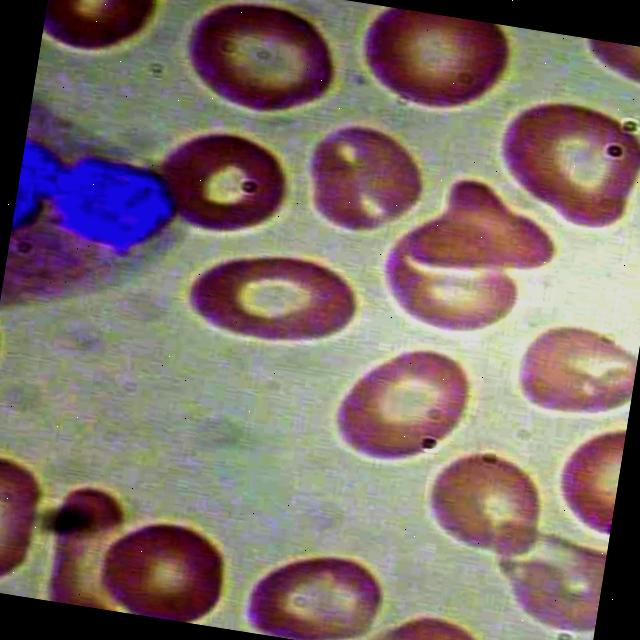RBC: (317, 321, 486, 486), (483, 90, 640, 242), (180, 240, 370, 360), (172, 0, 347, 129), (390, 438, 560, 568), (360, 218, 530, 348), (350, 3, 516, 132), (78, 508, 247, 630), (149, 117, 294, 250), (290, 116, 434, 244), (224, 531, 393, 640), (504, 302, 640, 428), (38, 0, 174, 74), (0, 451, 50, 590)
WBC: (0, 83, 199, 342)
